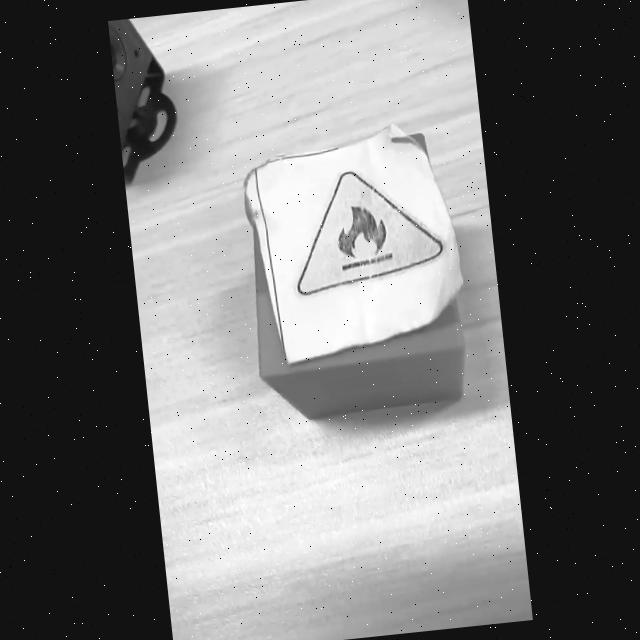Fire: (296, 173, 442, 295)
